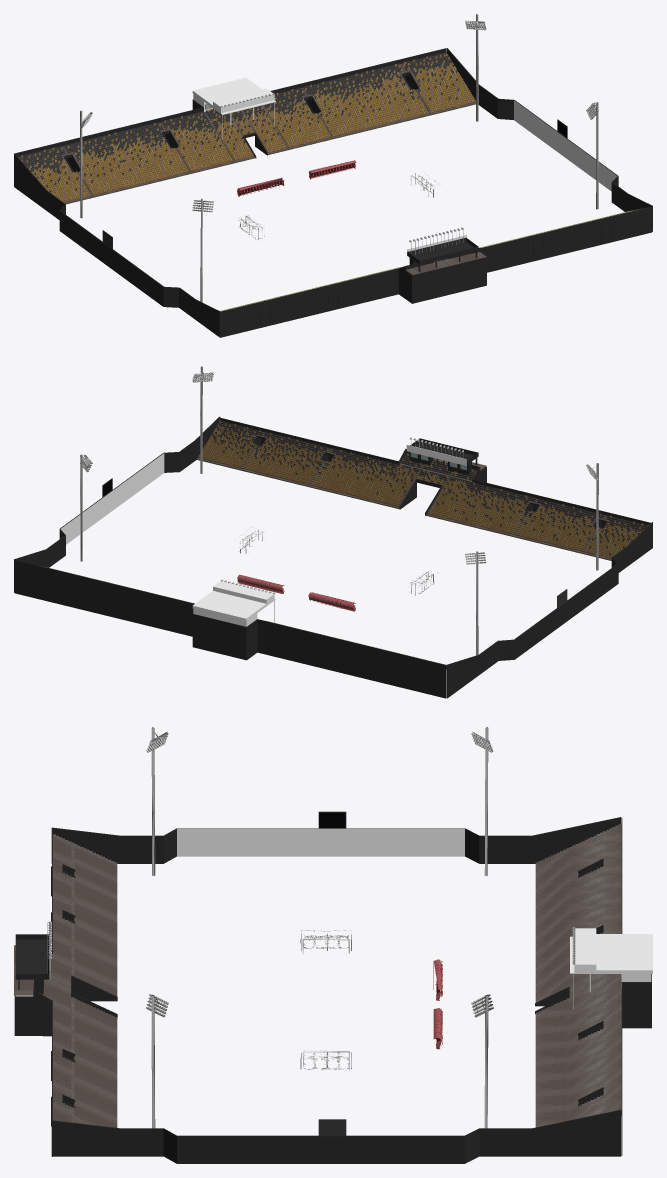
File: stadium.glb
3 views of the same model, one above another, from view 1: azimuth 30°, elevation 25°; view 2: azimuth 150°, elevation 25°; view 3: azimuth 270°, elevation 25° (orthographic). The views are drawn at different scales.
Size of the model in its own units: 156 by 35.46 by 137.
Materials: 23 (3 with a texture image).
